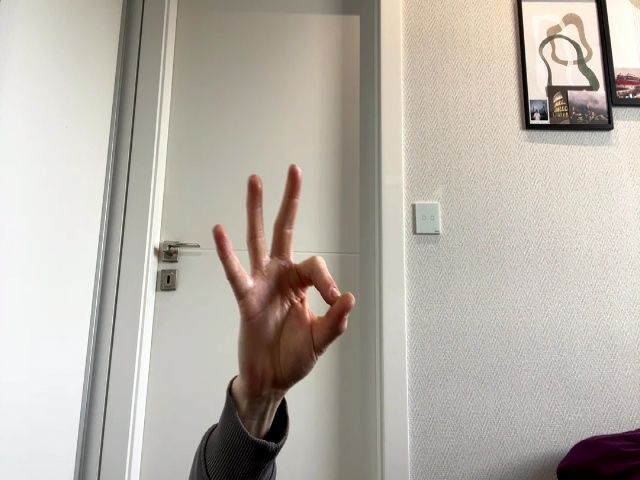O: (212, 164, 355, 387)
